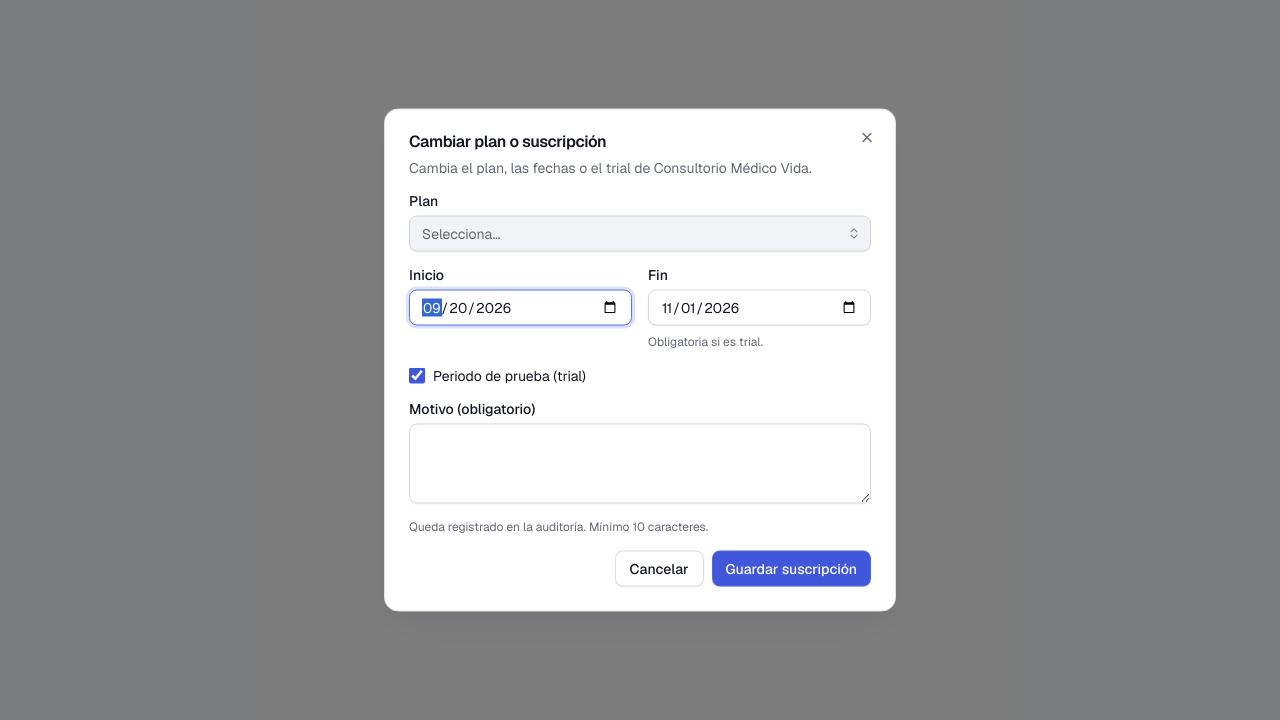
ChangePlanDialog › un trial sin fecha de fin no se envía
Clear the date field labelled "Fin": (760, 308) [648,290,871,326]
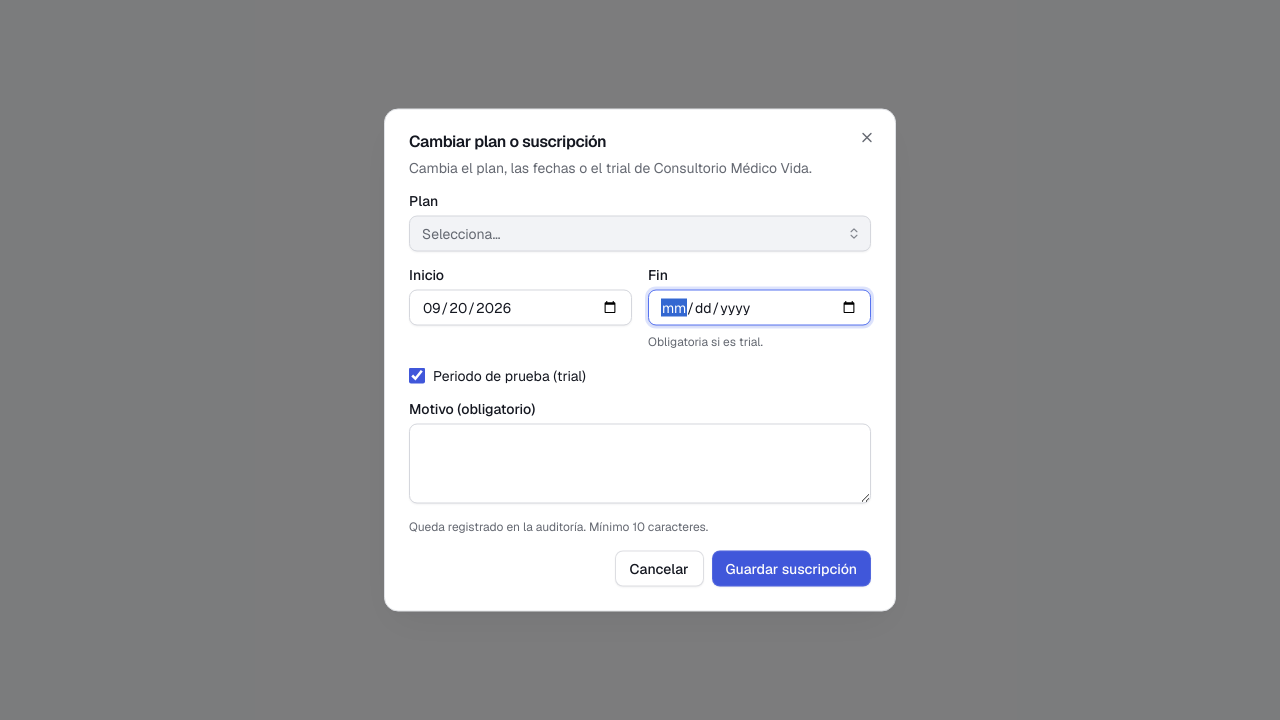
In the text box labelled "Motivo (obligatorio)": (640, 464) [409,424,871,504], type "Falta de pago confirmada por finanzas"
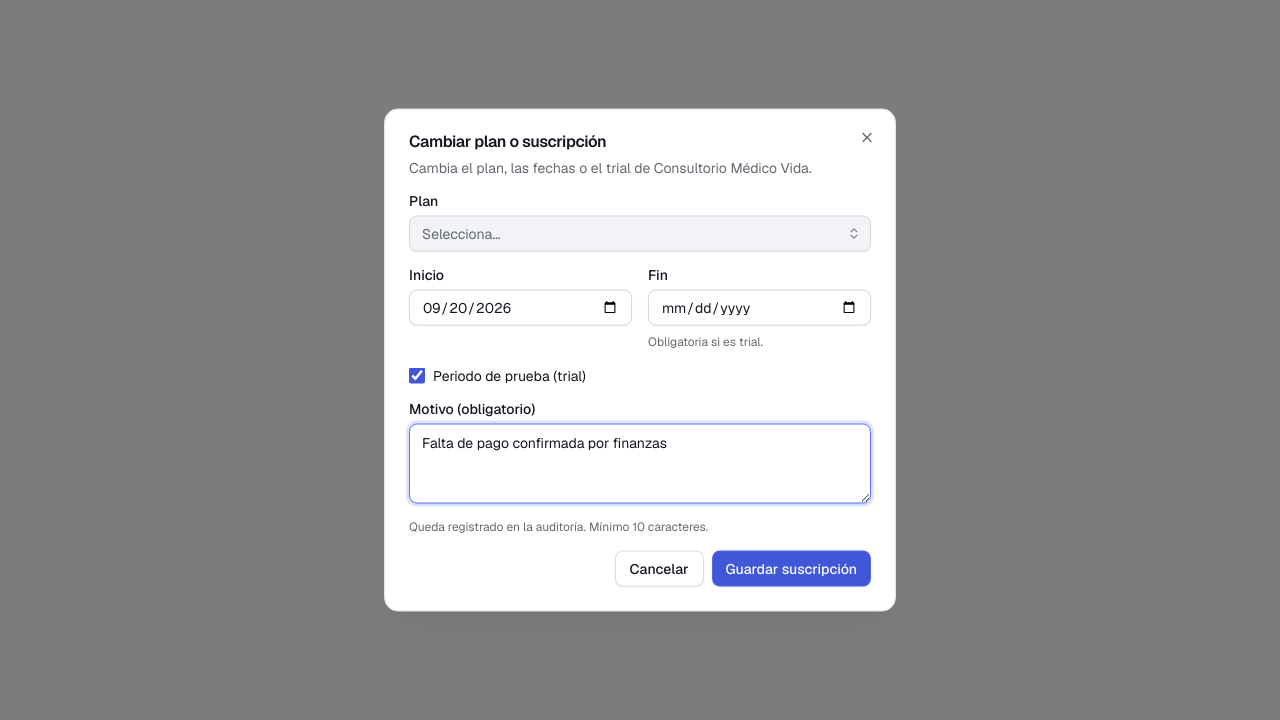
Click the button "Guardar suscripción": (791, 568) [712,550,871,586]
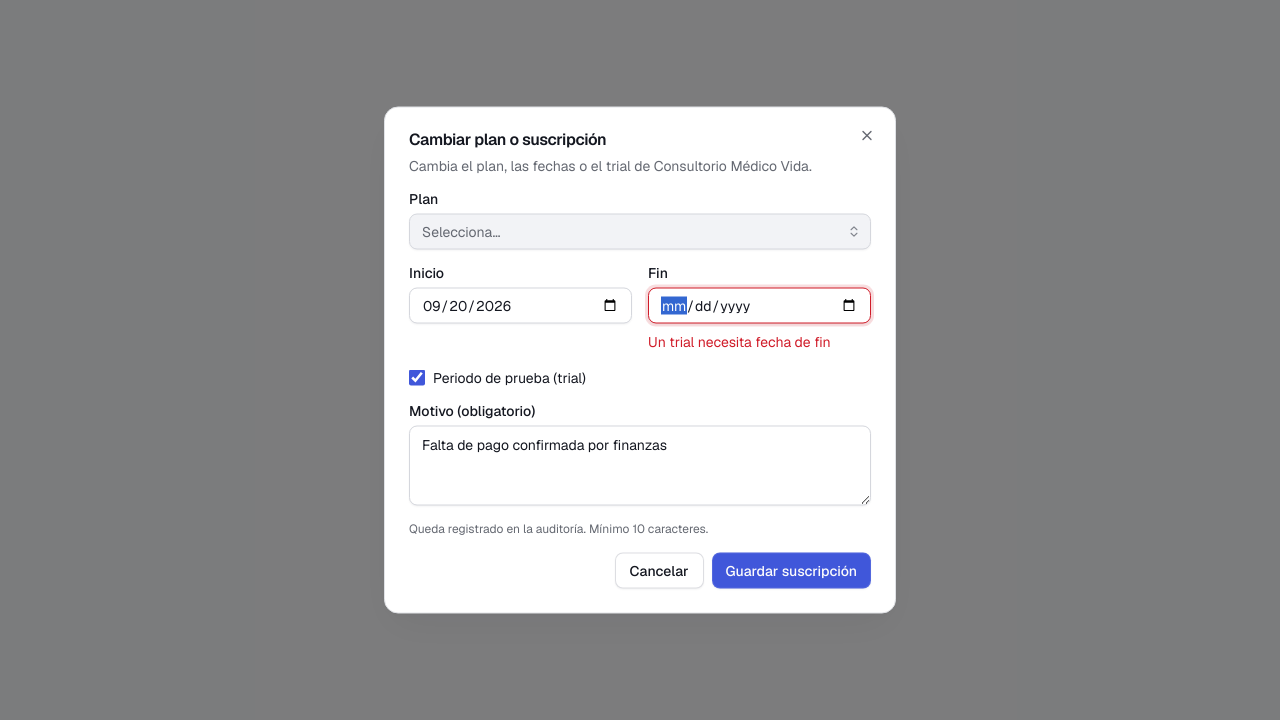
expect the text "Un trial necesita fecha de fin" is shown: met, box [648,332,831,350]
